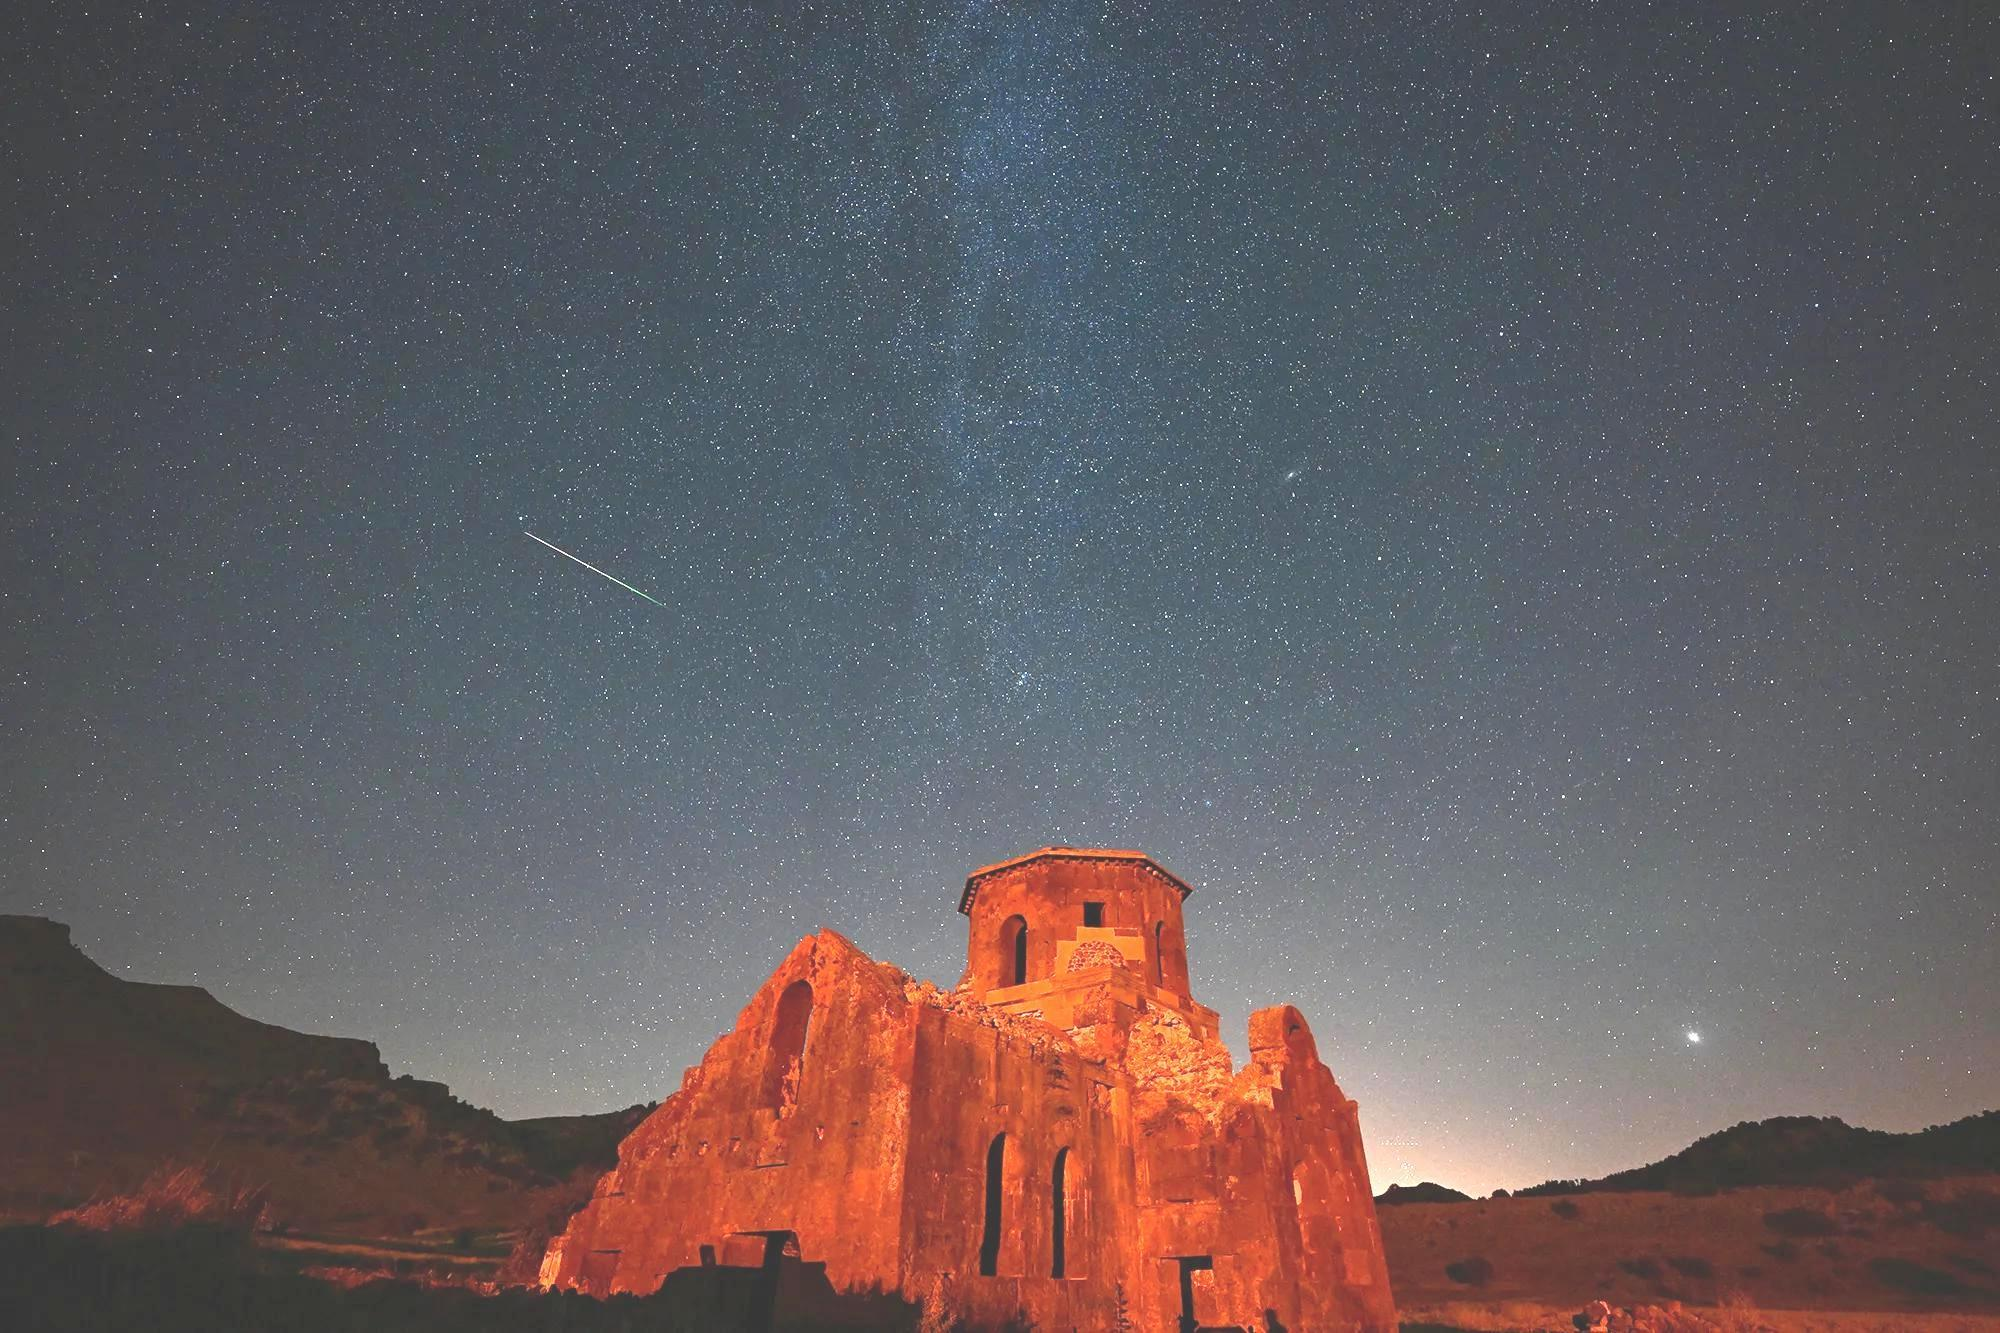meteorite: (503, 518, 703, 626)
